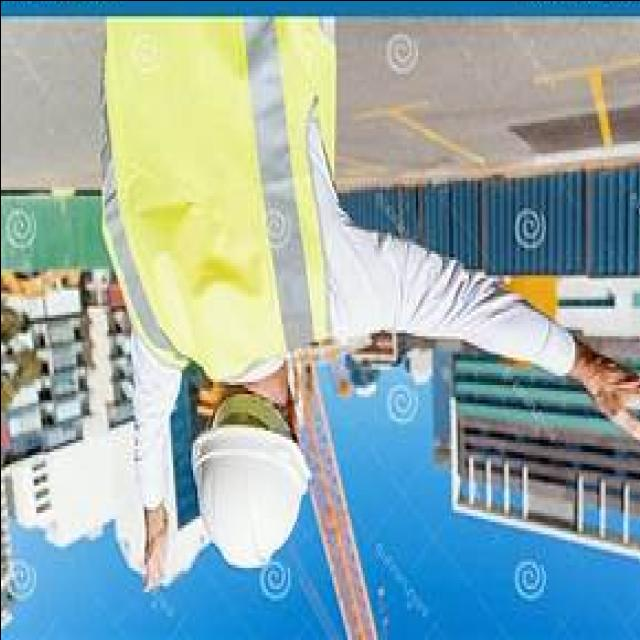not-gloved: (570, 341, 640, 445), (140, 505, 176, 609)
